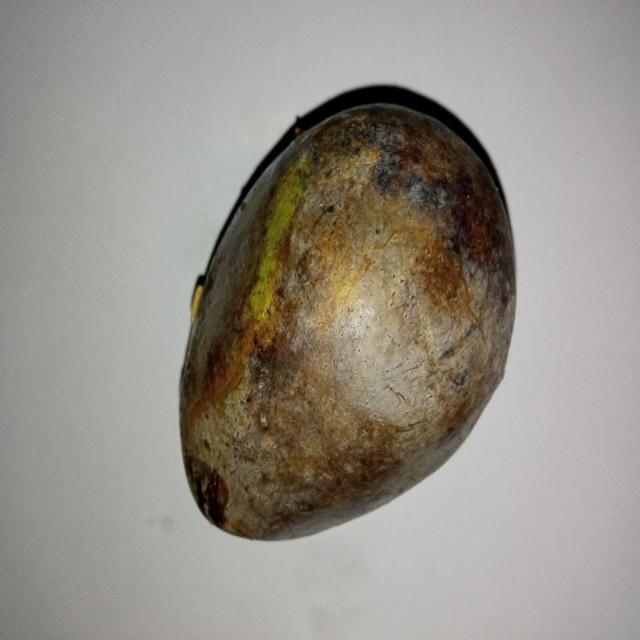rotten_mango: (176, 92, 512, 543)
